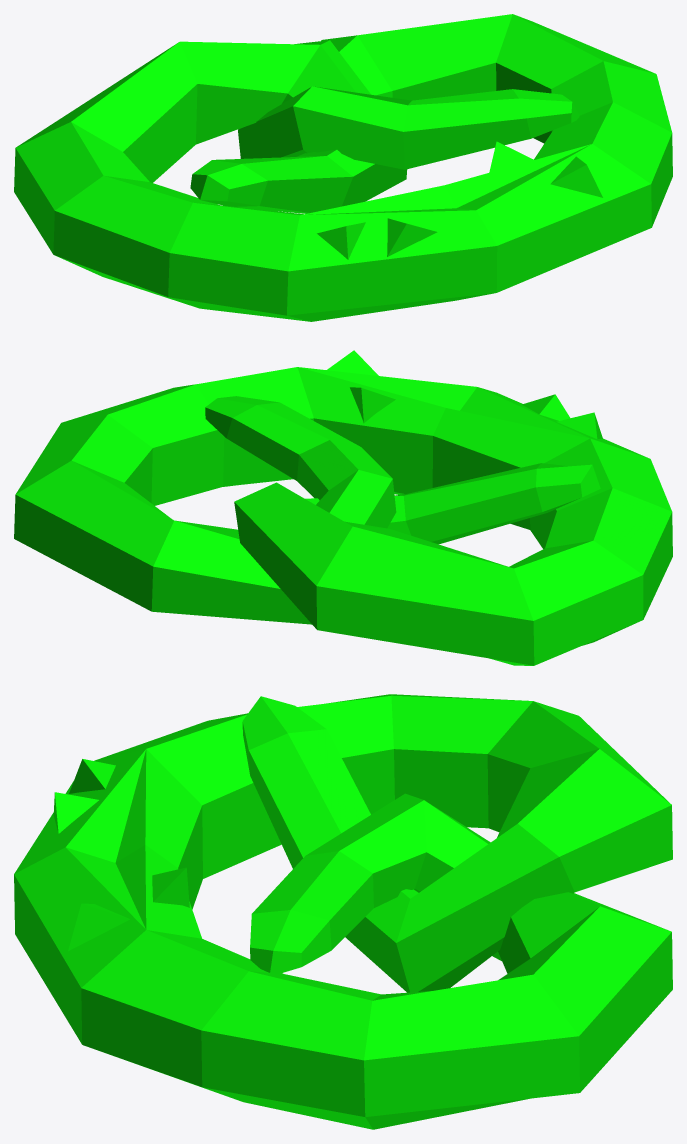
Rendered from SM_Pretzel.fbx.
3 views of the same model, one above another, from view 1: azimuth 30°, elevation 25°; view 2: azimuth 150°, elevation 25°; view 3: azimuth 270°, elevation 25° (orthographic). The views are drawn at different scales.
Parts seen in each view (by area): view 1: pretzel; view 2: pretzel; view 3: pretzel.
Boxes of the visible parts, x1=… form: pretzel: x1=14, y1=14, x2=672, y2=321; pretzel: x1=14, y1=350, x2=672, y2=665; pretzel: x1=14, y1=694, x2=672, y2=1129.
Bounding box in the file's own units: 0.25 × 0.0567 × 0.1895.
